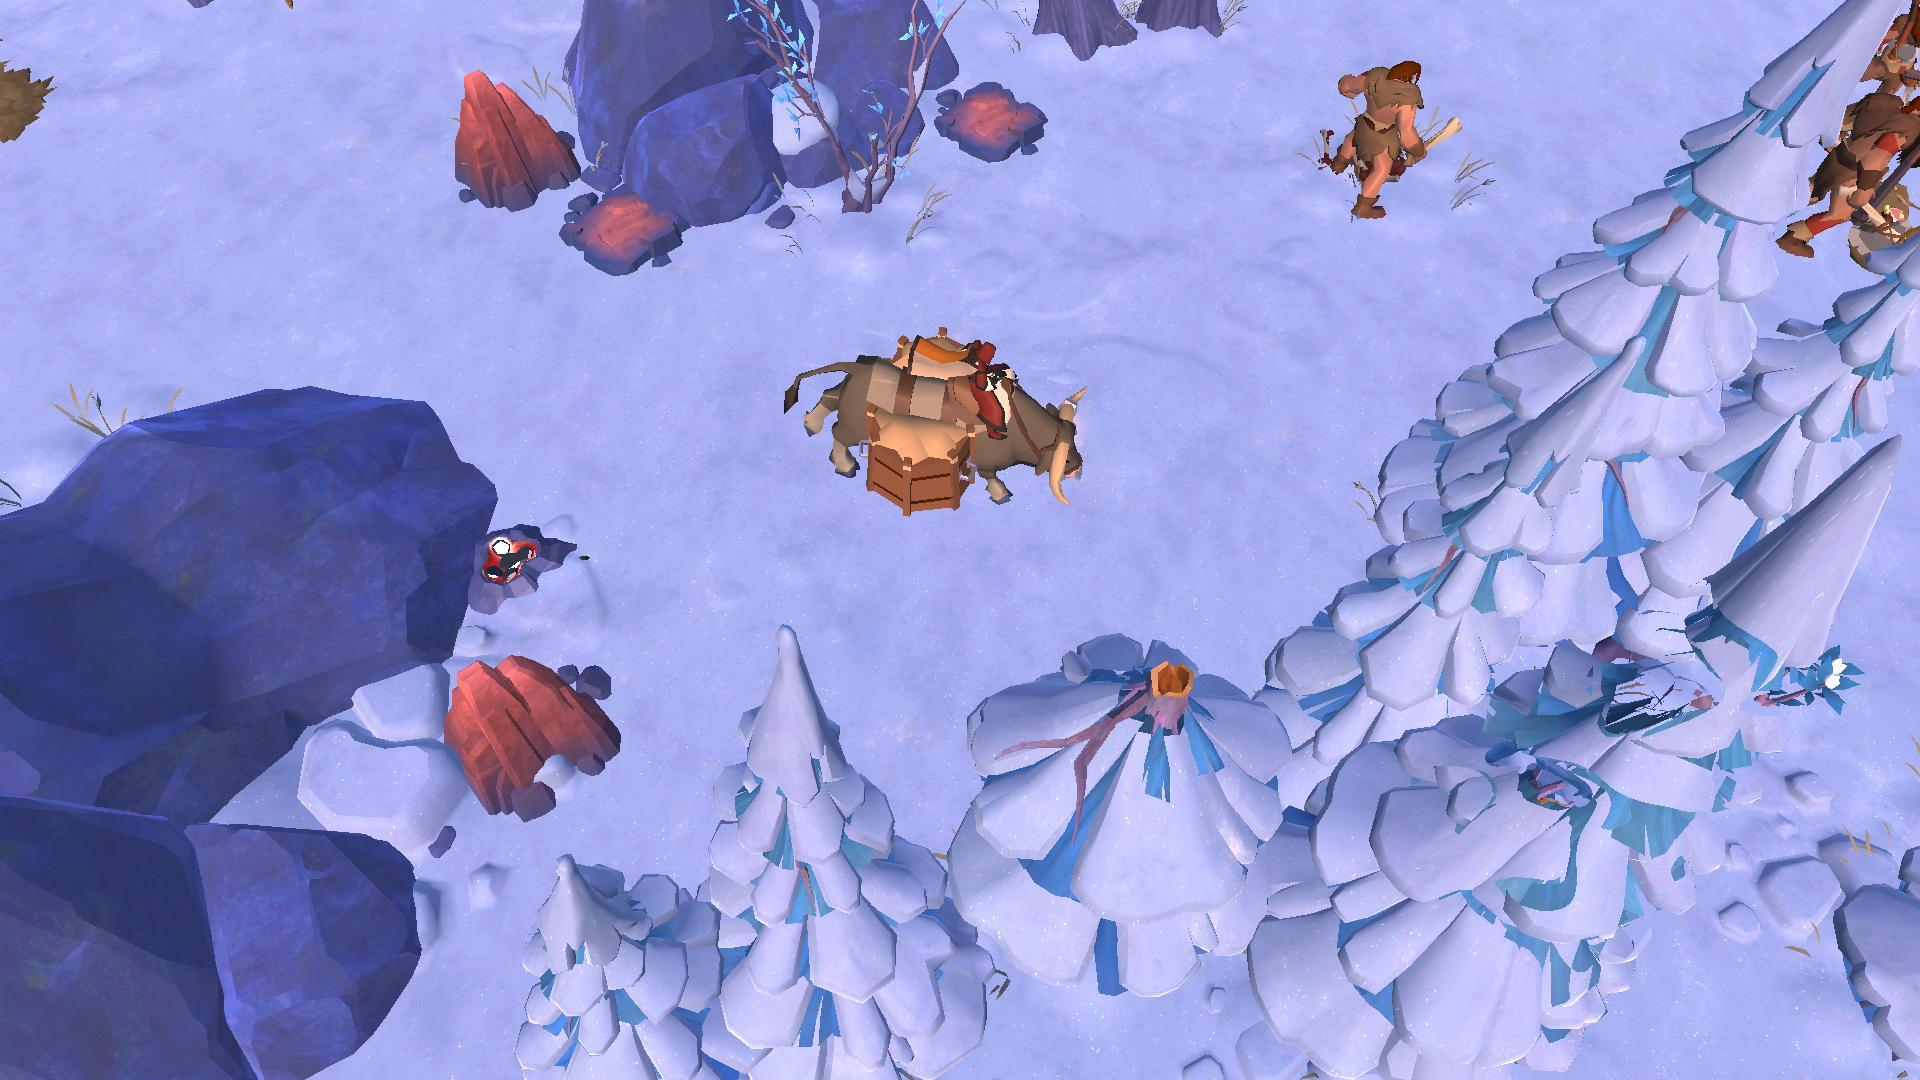enemy_factionKeeper: (1779, 83, 1920, 269), (1323, 46, 1451, 222)
fiber_t4: (1778, 646, 1866, 720)
rock_t5: (440, 649, 629, 802), (438, 70, 587, 216)
